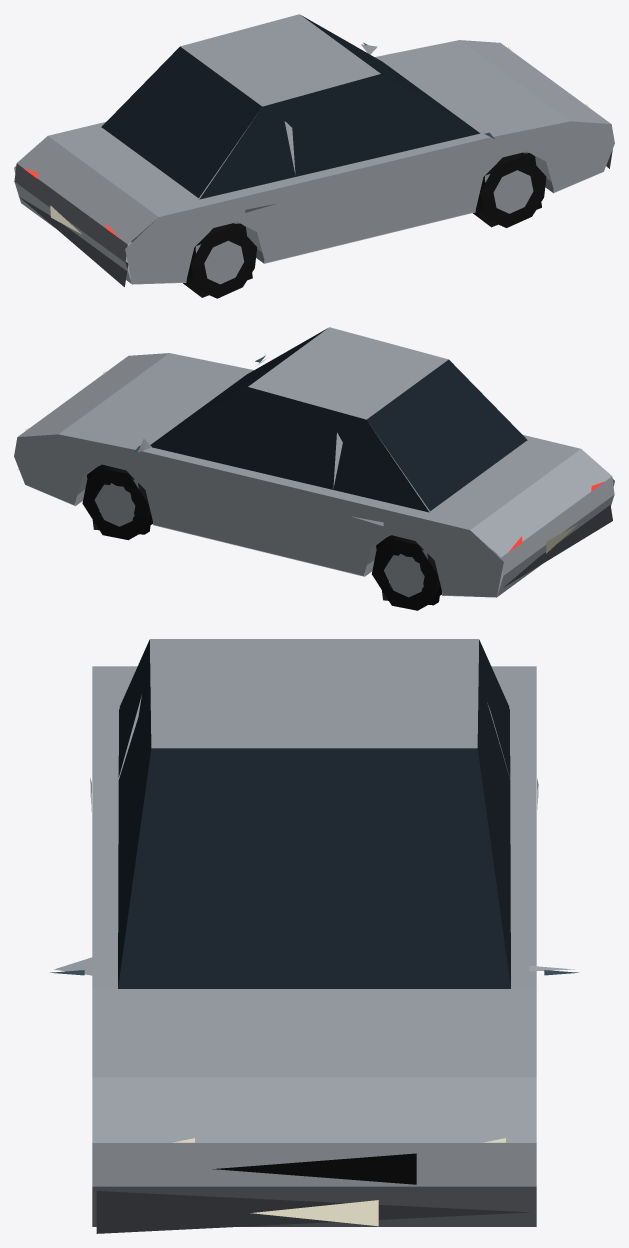
File: sedan_lod1.glb
The picture shows the model from 3 angles, top to bottom: view 1: azimuth 30°, elevation 25°; view 2: azimuth 150°, elevation 25°; view 3: azimuth 270°, elevation 25°; orthographic projection. The views are drawn at different scales.
Parts seen in each view (by area): view 1: sedan_body, wheel_rr.003, wheel_fr.001; view 2: sedan_body, wheel_rl.003, wheel_fl.001; view 3: sedan_body.
Part boxes in pixels (left/top/right/bottom): sedan_body: left=14, top=14, right=614, bottom=286; wheel_rr.003: left=183, top=223, right=257, bottom=298; wheel_fr.001: left=473, top=152, right=546, bottom=227; sedan_body: left=14, top=327, right=614, bottom=597; wheel_rl.003: left=372, top=535, right=441, bottom=610; wheel_fl.001: left=82, top=464, right=152, bottom=540; sedan_body: left=50, top=639, right=578, bottom=1233.
Size of the model in its own units: 4.47 by 1.48 by 2.07.
2 materials, 1 textured.
